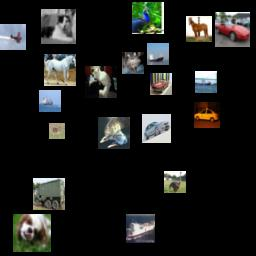airplane: (0, 24, 26, 50)
automobile: (215, 12, 250, 47), (142, 114, 171, 143), (194, 102, 220, 128), (150, 73, 172, 95)
bird: (98, 117, 130, 149), (132, 2, 164, 34), (164, 171, 186, 193)
cat: (41, 9, 76, 44), (85, 66, 117, 98), (122, 52, 144, 74)
deer: (49, 123, 65, 139)
dog: (13, 214, 51, 252)
ship: (126, 214, 155, 243), (39, 90, 61, 112), (147, 43, 169, 65), (195, 71, 217, 93)
truck: (33, 178, 65, 210)
